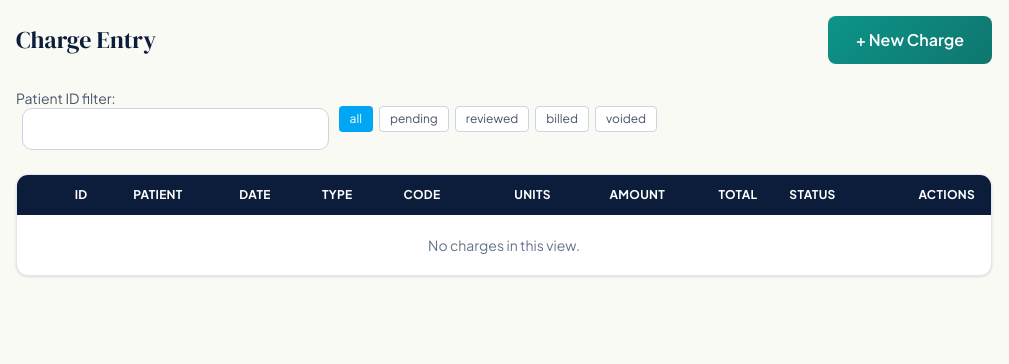
Test: ChargeEntryPage › loads pending summary when a patient filter is provided
Type "100" into the field labelled "Patient ID filter:". click: (175, 129)
box: [22,108,329,150]
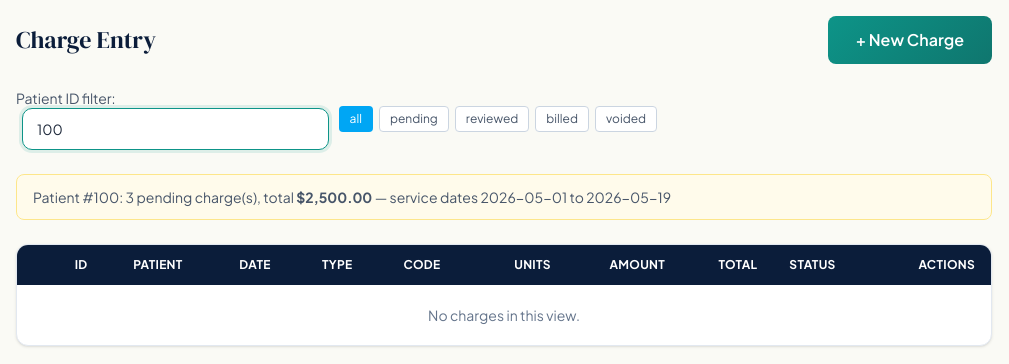
Expected: the text "3 pending" is shown, [16,174,992,220]
Expected: the text "$2,500.00" is shown, [296,188,372,206]
